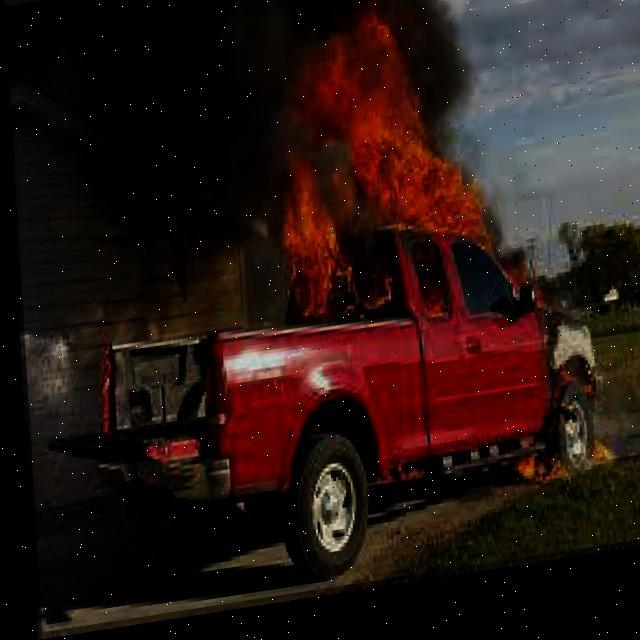Fire: (260, 0, 537, 357)
